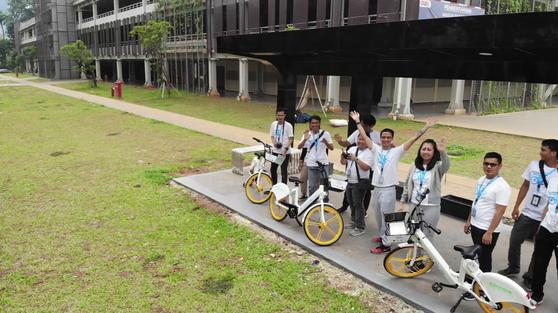bike: (376, 192, 538, 313), (260, 159, 354, 253), (240, 136, 280, 207)
